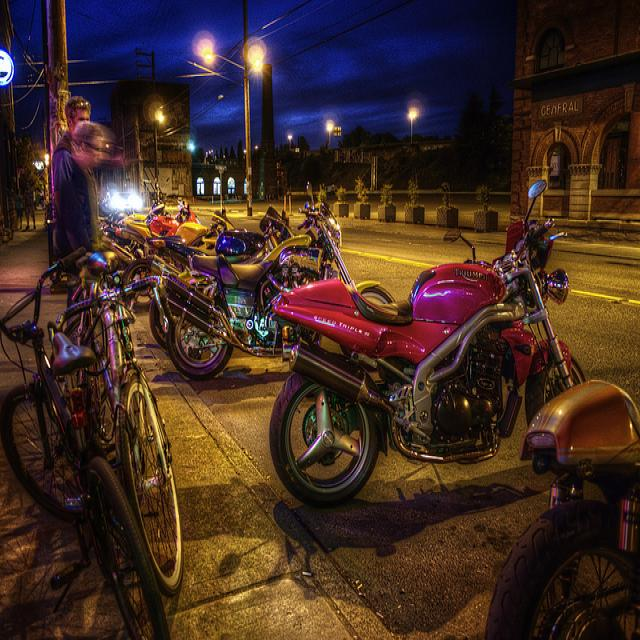motor: (268, 180, 587, 508), (161, 183, 394, 380), (478, 371, 640, 631), (104, 209, 237, 286)
